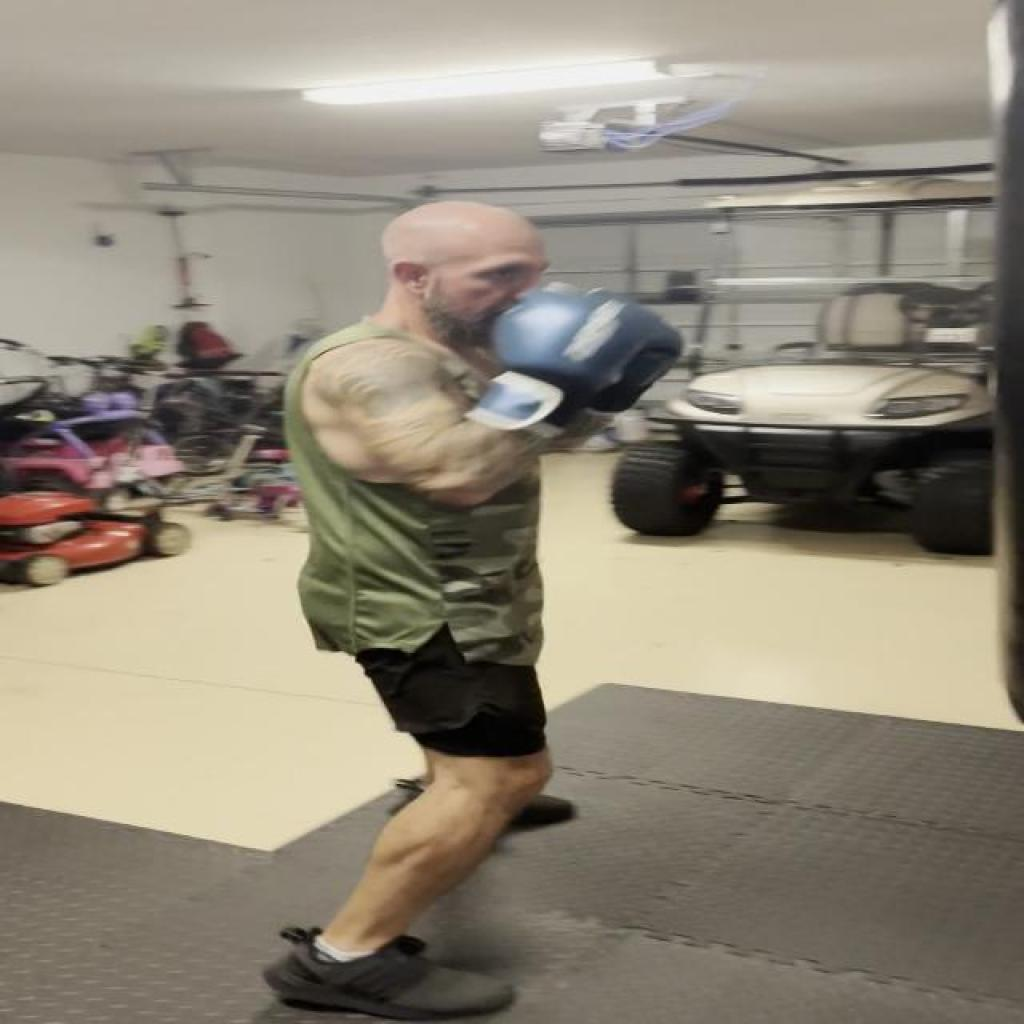no punch: (301, 186, 686, 518)
